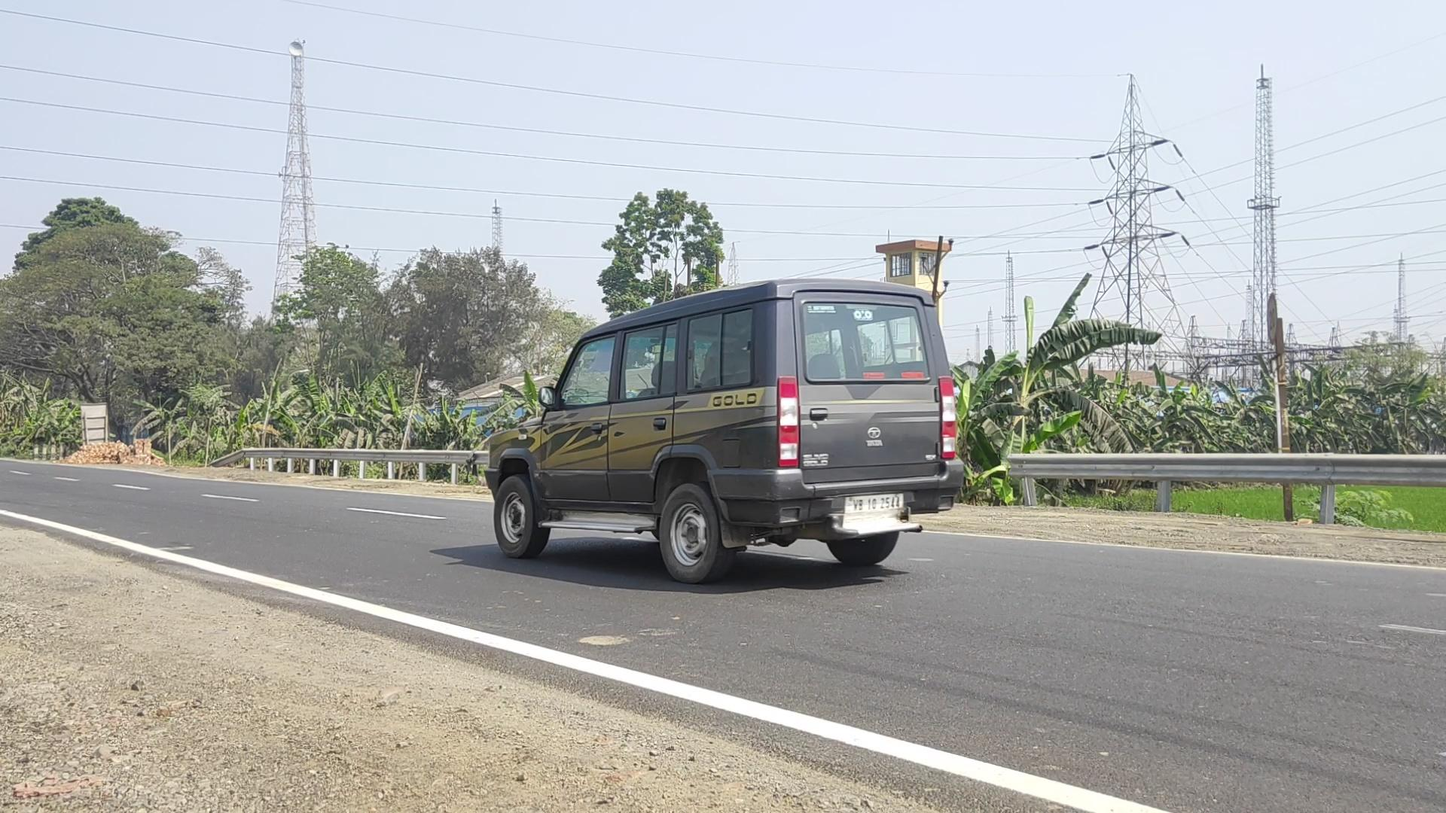car: (485, 278, 964, 583)
